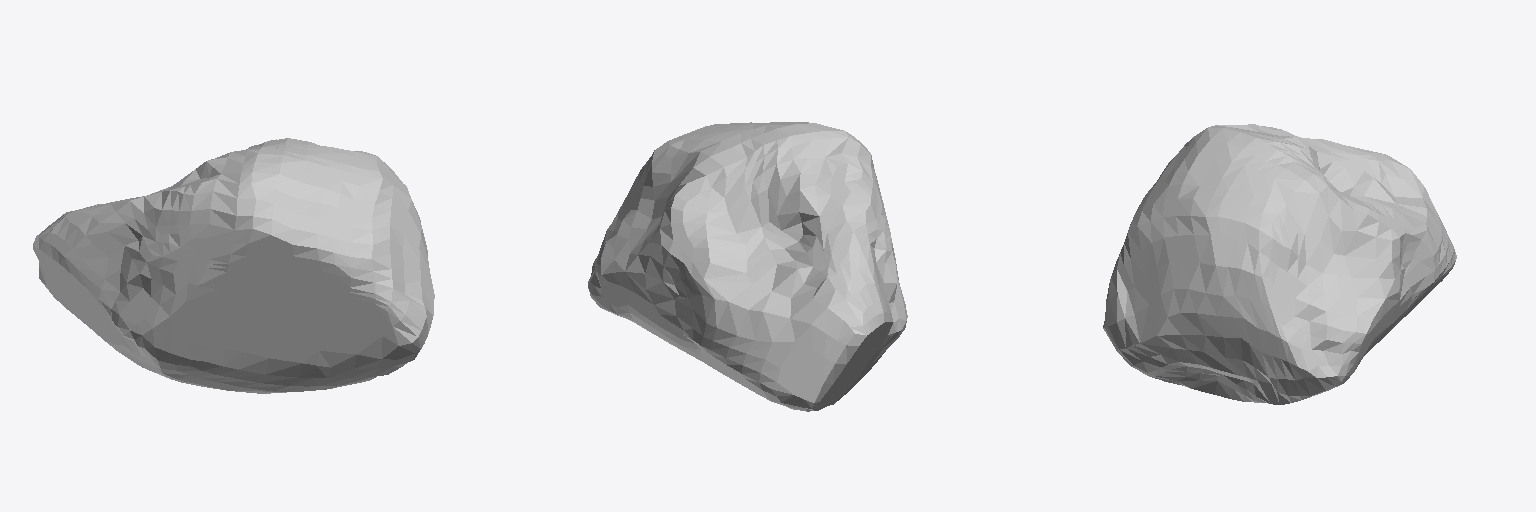
The model's file is Rock_C_LP.obj.
The picture shows the model from 3 angles: view 1: azimuth 30°, elevation 25°; view 2: azimuth 150°, elevation 25°; view 3: azimuth 270°, elevation 25°; orthographic projection.
Visible parts, largest first — view 1: polySurface146; view 2: polySurface146; view 3: polySurface146.
Boxes of the visible parts, <box> form: polySurface146: <box>33,138,434,393</box>; polySurface146: <box>588,122,907,411</box>; polySurface146: <box>1103,124,1456,404</box>.
Size of the model in its own units: 2.51 by 1.69 by 2.39.